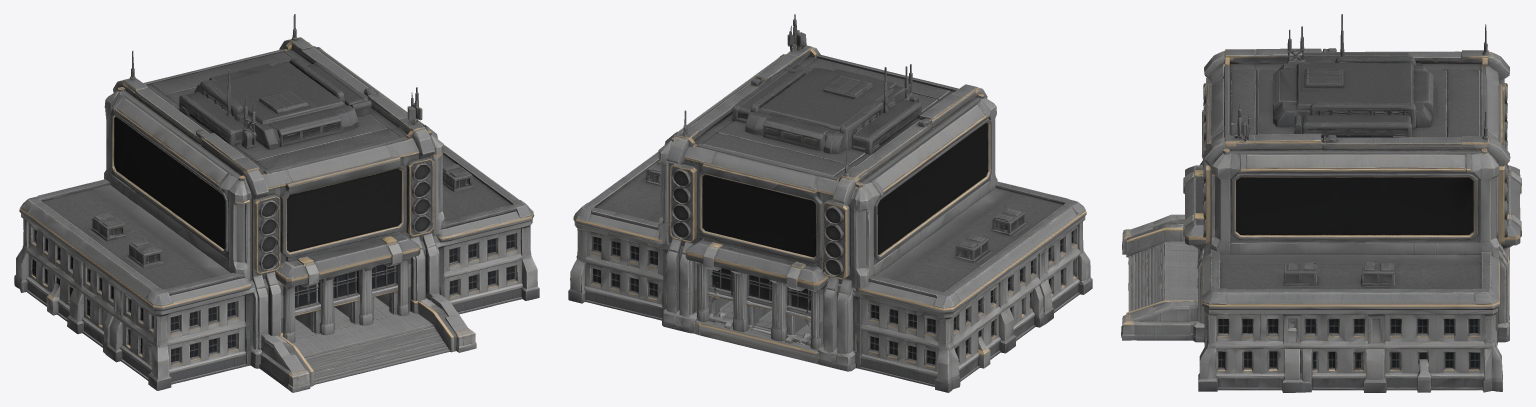
Rendered from imperial_propaganda_bureau.glb.
3 views of the same model, side by side, from view 1: azimuth 30°, elevation 25°; view 2: azimuth 150°, elevation 25°; view 3: azimuth 270°, elevation 25° (orthographic). The views are drawn at different scales.
Visible parts, largest first — view 1: mesh_node; view 2: mesh_node; view 3: mesh_node.
Boxes of the visible parts, x1,y1,x2,y2 form: mesh_node: [14, 14, 539, 392]; mesh_node: [568, 14, 1092, 392]; mesh_node: [1121, 14, 1521, 392].
Bounding box in the file's own units: 25.91 × 15.24 × 21.95.
Materials: 1 (1 with a texture image).
